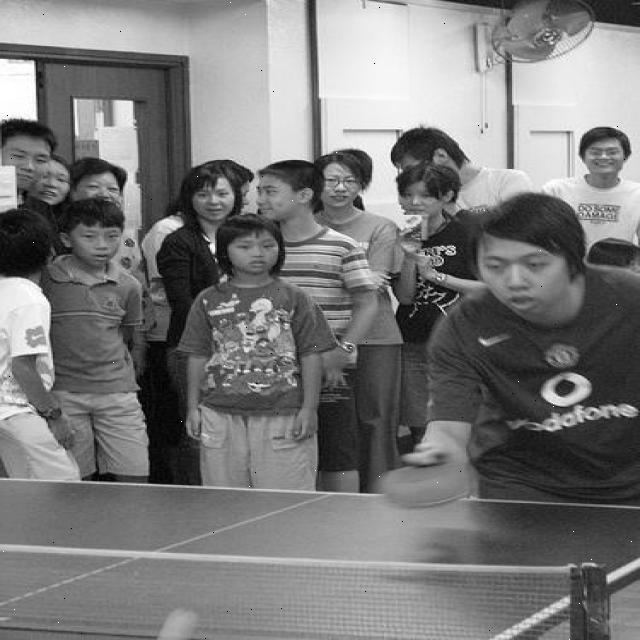ping-pong-ball: (154, 608, 198, 640)
